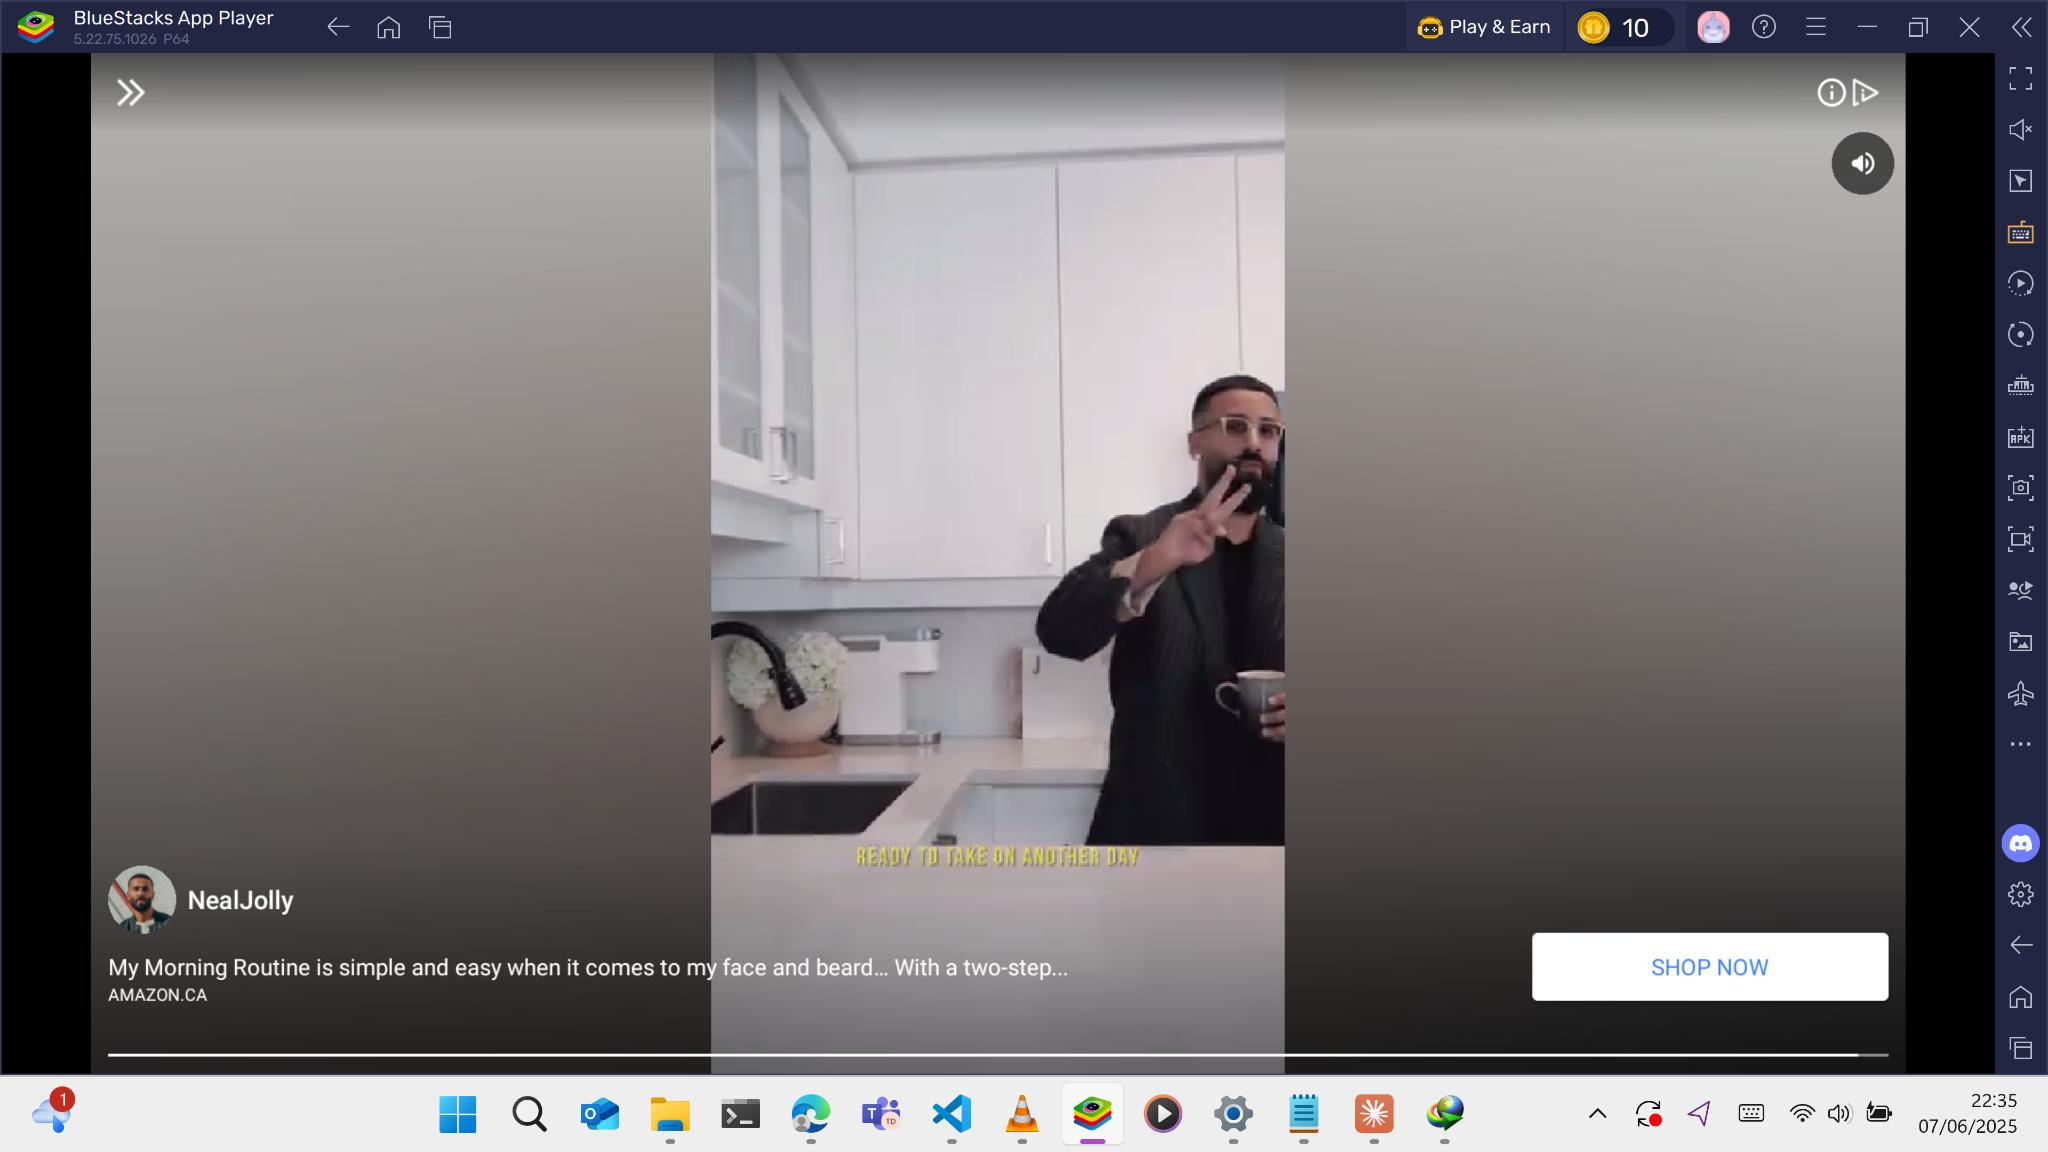skip_ad: (115, 77, 148, 110)
